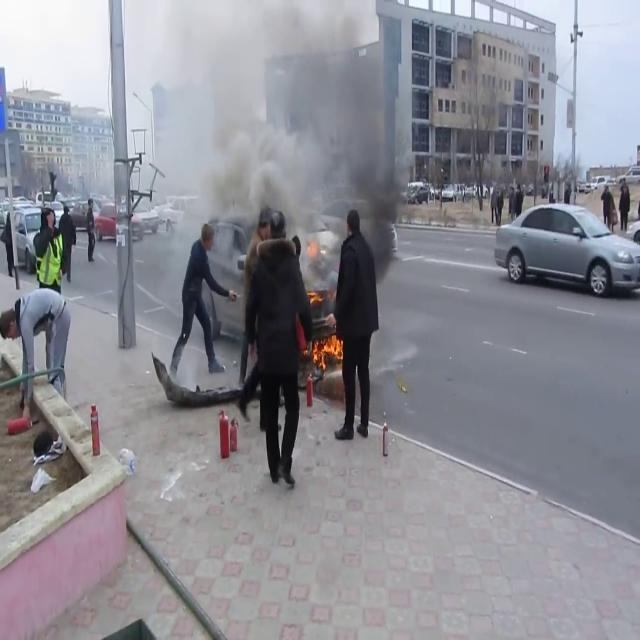Fire: (311, 327, 343, 375)
Smoke: (166, 0, 408, 255)
